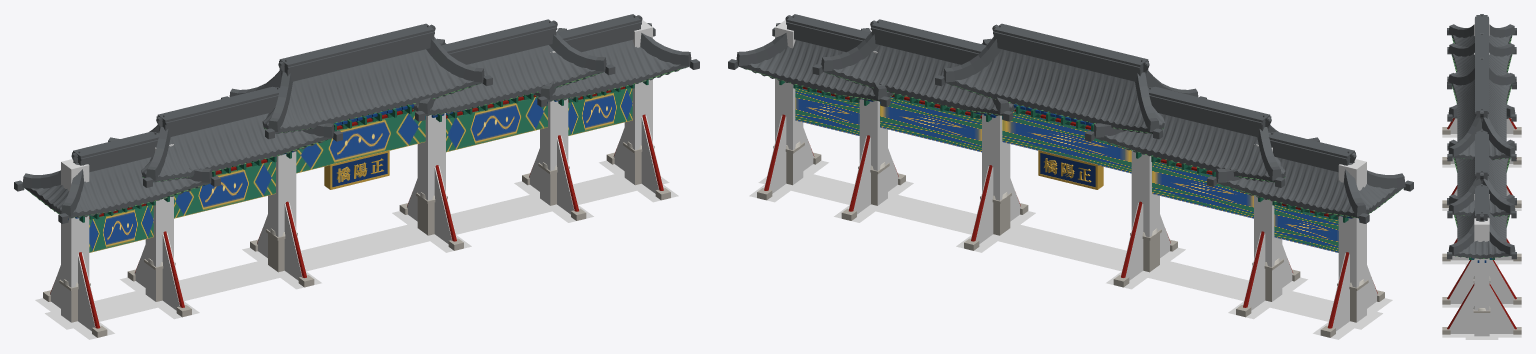
The model's file is pailou.glb.
3 views of the same model, side by side, from view 1: azimuth 30°, elevation 25°; view 2: azimuth 150°, elevation 25°; view 3: azimuth 270°, elevation 25° (orthographic). The views are drawn at different scales.
Parts seen in each view (by area): view 1: Massing, Archway, FOOTPRINT_archway, COL_clamp, COL_clamp.005, COL_clamp.003, COL_clamp.004, COL_clamp.002, COL_clamp.001, COL_brace.004, COL_brace.006, COL_brace.002 (+8 smaller); view 2: Massing, Archway, FOOTPRINT_archway, COL_clamp, COL_clamp.005, COL_clamp.003, COL_clamp.004, COL_clamp.002, COL_clamp.001, COL_brace.005, COL_brace.007, COL_brace.003 (+9 smaller); view 3: Archway, Massing, COL_clamp.005, COL_brace.010, COL_brace.011, COL_brace.008, COL_brace.009, CLEAR_post.005, CLEAR_post.003, CLEAR_post.004, CLEAR_post, FOOTPRINT_archway (+4 smaller).
Part boxes in pixels (x1,y1,x2,y2): Massing: [31, 14, 678, 252]; Archway: [14, 15, 699, 337]; FOOTPRINT_archway: [45, 173, 669, 329]; COL_clamp: [61, 159, 89, 322]; COL_clamp.005: [624, 20, 652, 184]; COL_clamp.003: [417, 113, 445, 200]; COL_clamp.004: [540, 51, 568, 205]; COL_clamp.002: [268, 151, 296, 237]; COL_clamp.001: [145, 144, 173, 301]; COL_brace.004: [284, 202, 306, 280]; COL_brace.006: [434, 166, 456, 243]; COL_brace.002: [162, 232, 184, 310]; Massing: [753, 14, 1396, 252]; Archway: [728, 15, 1413, 337]; FOOTPRINT_archway: [758, 172, 1382, 329]; COL_clamp: [1338, 159, 1366, 322]; COL_clamp.005: [775, 20, 803, 184]; COL_clamp.003: [982, 114, 1010, 200]; COL_clamp.004: [859, 51, 887, 205]; COL_clamp.002: [1131, 150, 1159, 237]; COL_clamp.001: [1254, 144, 1282, 301]; COL_brace.005: [1121, 202, 1143, 280]; COL_brace.007: [971, 166, 993, 243]; COL_brace.003: [1243, 232, 1265, 310]; Archway: [1442, 14, 1521, 334]; Massing: [1453, 15, 1510, 255]; COL_clamp.005: [1474, 218, 1489, 336]; COL_brace.010: [1449, 286, 1474, 333]; COL_brace.011: [1489, 286, 1514, 333]; COL_brace.008: [1449, 260, 1474, 303]; COL_brace.009: [1489, 260, 1514, 303]; CLEAR_post.005: [1442, 334, 1521, 337]; CLEAR_post.003: [1442, 260, 1521, 264]; CLEAR_post.004: [1442, 304, 1521, 307]; CLEAR_post: [1442, 134, 1521, 137]; FOOTPRINT_archway: [1465, 264, 1498, 339].
Size of the model in its own units: 39.15 by 12.1 by 5.8.
9 materials, 2 textured.
